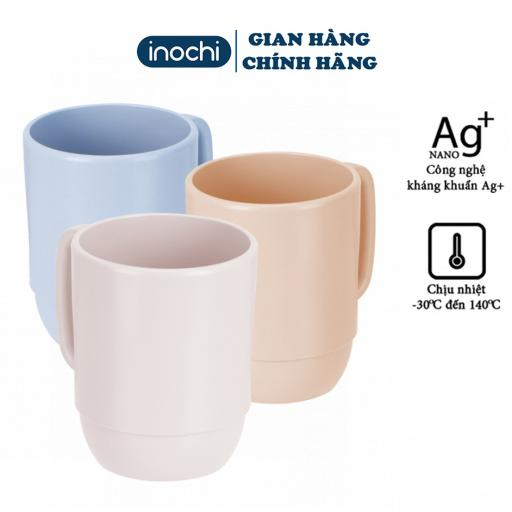cup: (57, 214, 257, 480), (187, 153, 374, 402), (24, 104, 211, 341)
